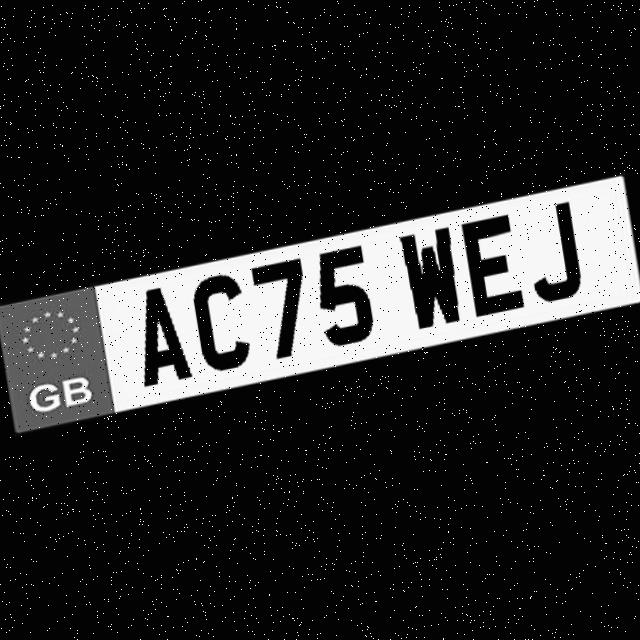license-plates: (0, 174, 640, 432)
